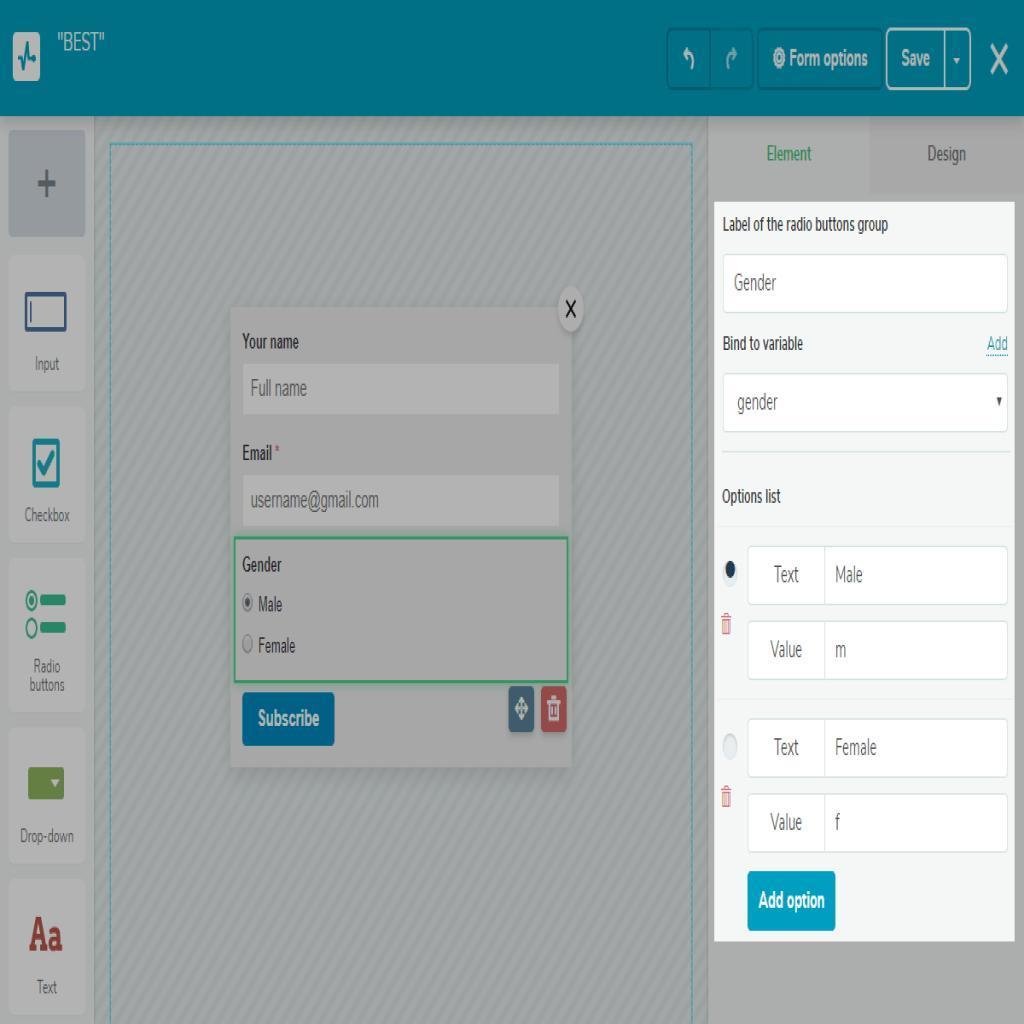button: (747, 869, 836, 936), (242, 694, 335, 748)
checkbox: (33, 441, 60, 490)
dropdown: (720, 365, 1015, 431)
icon: (719, 779, 740, 817), (717, 612, 737, 643)
input: (721, 251, 1011, 315), (242, 360, 562, 417), (242, 475, 566, 528), (753, 550, 1009, 609), (746, 796, 1009, 853), (751, 722, 1006, 775), (751, 623, 1009, 675)
radio: (718, 725, 743, 769), (720, 553, 746, 589), (242, 635, 257, 657), (242, 594, 255, 614)
